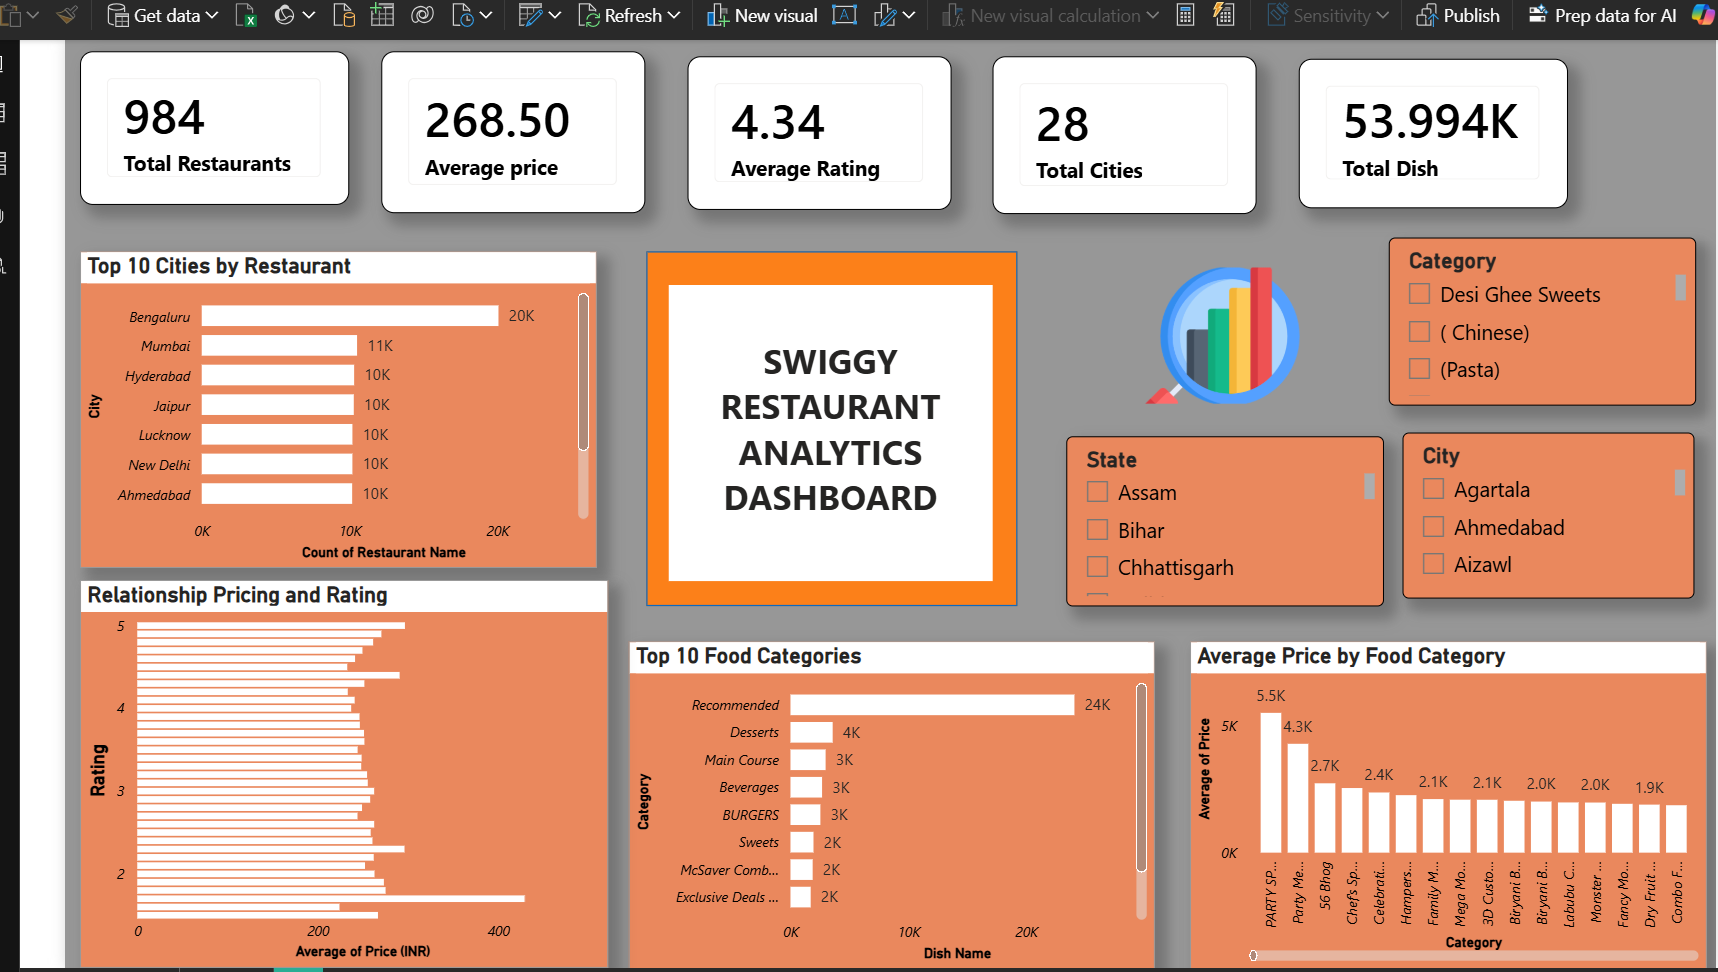

The page's visual inventory and layout, read from the dashboard file:
{"tool":"powerbi","page":{"name":"Page 1","canvas":[1280,720],"ordinal":0},"visuals":[{"type":"cardVisual","fields":{"Data":["Count(Table1.Restaurant Name)"]},"box":[11.6,8.4,208.8,119.2],"z":0},{"type":"cardVisual","fields":{"Data":["Count(Table1.City)"]},"box":[719.2,12.7,204.6,122.3],"z":1000},{"type":"cardVisual","fields":{"Data":["Avg(Table1.Rating)"]},"box":[483,12.7,204.6,119.2],"z":2000},{"type":"cardVisual","fields":{"Data":["Avg(Table1.Price (INR))"]},"box":[245.7,8.4,204.6,125.5],"z":3000},{"type":"cardVisual","fields":{"Data":["Count(Table1.Dish Name)"]},"box":[956.4,14.8,208.8,116],"z":4000},{"type":"clusteredBarChart","title":"Top 10 Food Categories","fields":{"Category":["Table1.Category"],"Y":["CountNonNull(Table1.Dish Name)"]},"box":[437.6,466.1,408.1,254.1],"z":5000},{"type":"clusteredBarChart","title":"Top 10 Cities by Restaurant","fields":{"Category":["Table1.City"],"Y":["CountNonNull(Table1.Restaurant Name)"]},"box":[11.6,163.4,400.7,245.7],"z":6000},{"type":"clusteredBarChart","title":"Relationship Pricing and Rating","fields":{"Y":["Avg(Table1.Price (INR))"],"Category":["Table1.Rating"]},"box":[11.7,418.9,409.6,300.8],"z":7000},{"type":"clusteredColumnChart","title":"Average Price by Food  Category","fields":{"Category":["Table1.Category"],"Y":["Avg(Table1.Price (INR))"]},"box":[872.1,466.1,400.7,254.1],"z":8000},{"type":"slicer","fields":{"Values":["Table1.State"]},"box":[776.1,306.9,246.7,131.8],"z":9000},{"type":"slicer","fields":{"Values":["Table1.City"]},"box":[1037.2,304.7,226.7,129.1],"z":10000},{"type":"slicer","fields":{"Values":["Table1.Category"]},"box":[1026,152.9,238.3,130.8],"z":11000},{"type":"shape","box":[450.3,163.4,287.9,275.2],"z":12000},{"type":"textbox","box":[468.2,189.8,251,229.9],"z":13000},{"type":"image","box":[795.4,176.7,181.4,105.8],"z":13001}]}

Visuals, with their boxes in screenshot pixels (x1, y1, x2, y2):
cardVisual - Count(Table1.Restaurant Name): 15 51 281 203
cardVisual - Count(Table1.City): 918 56 1179 213
cardVisual - Avg(Table1.Rating): 617 56 878 209
cardVisual - Avg(Table1.Price (INR)): 314 51 575 211
cardVisual - Count(Table1.Dish Name): 1221 59 1488 207
"Top 10 Food Categories" clusteredBarChart: 559 635 1080 960
"Top 10 Cities by Restaurant" clusteredBarChart: 15 249 526 563
"Relationship Pricing and Rating" clusteredBarChart: 15 575 538 959
"Average Price by Food  Category" clusteredColumnChart: 1113 635 1625 960
slicer - Table1.State: 991 432 1306 600
slicer - Table1.City: 1324 429 1614 594
slicer - Table1.Category: 1310 235 1614 402
shape: 575 249 942 600
textbox: 598 283 918 576
image: 1015 266 1247 401
